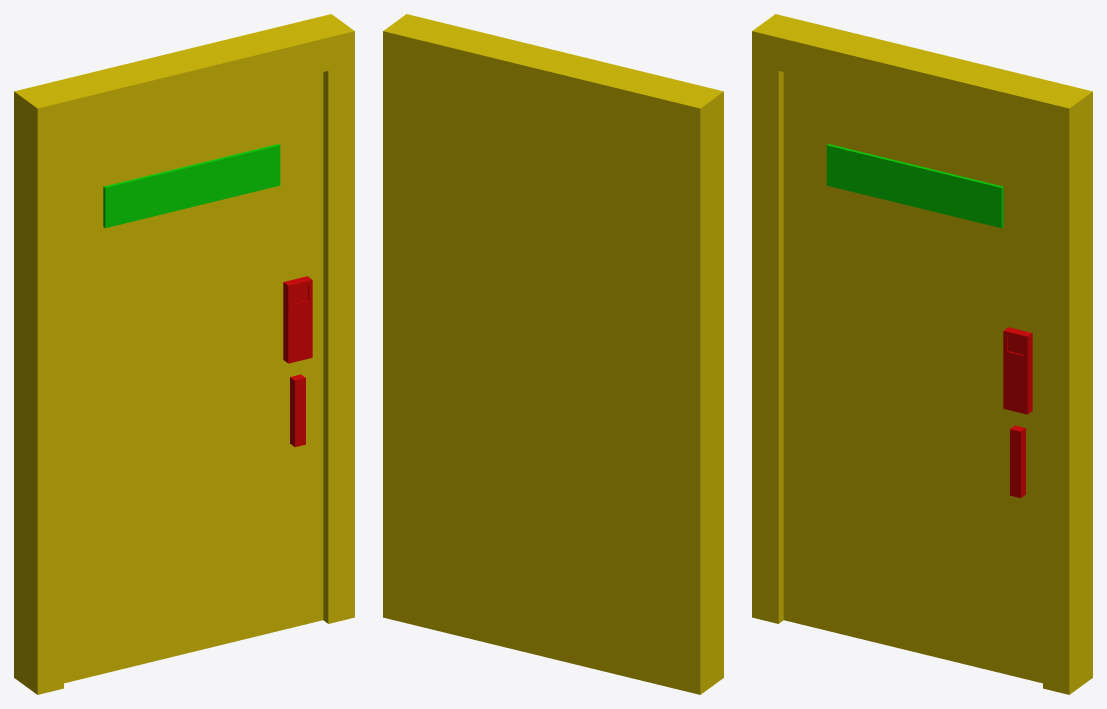
File: Break_Door.fbx
3 views of the same model, side by side, from view 1: azimuth 30°, elevation 25°; view 2: azimuth 150°, elevation 25°; view 3: azimuth 330°, elevation 25° (orthographic).
Visible parts, largest first — view 1: pCube5; view 2: pCube5; view 3: pCube5.
Part boxes in pixels (x1,y1,x2,y2): pCube5: (14,14,354,694); pCube5: (383,14,723,694); pCube5: (752,14,1092,694).
Size of the model in its own units: 5 by 8.83 by 0.6392.
